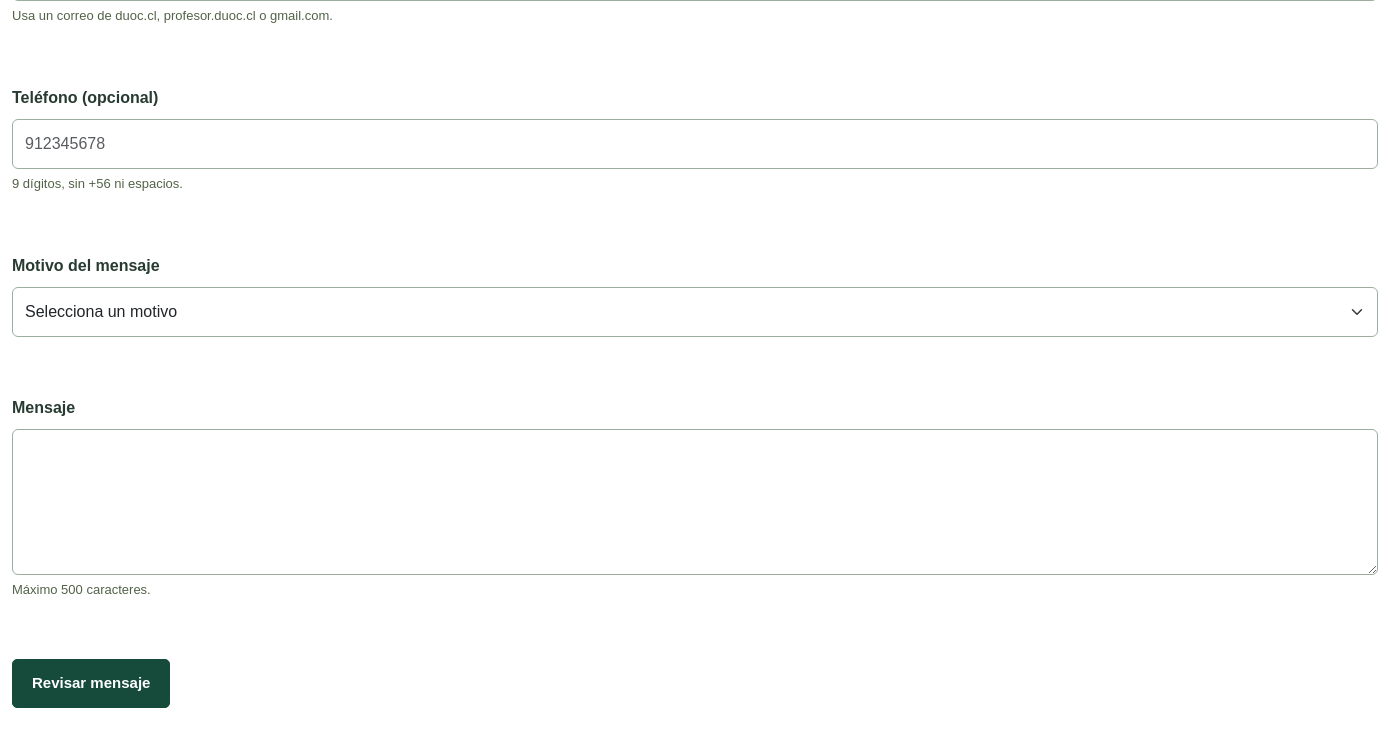
Test: Formulario de contacto › CP-03: impide revisar un mensaje con campos obligatorios vacíos
(page scrolled)
Click the button "Revisar mensaje". click: (91,684)
box: [12,659,170,708]
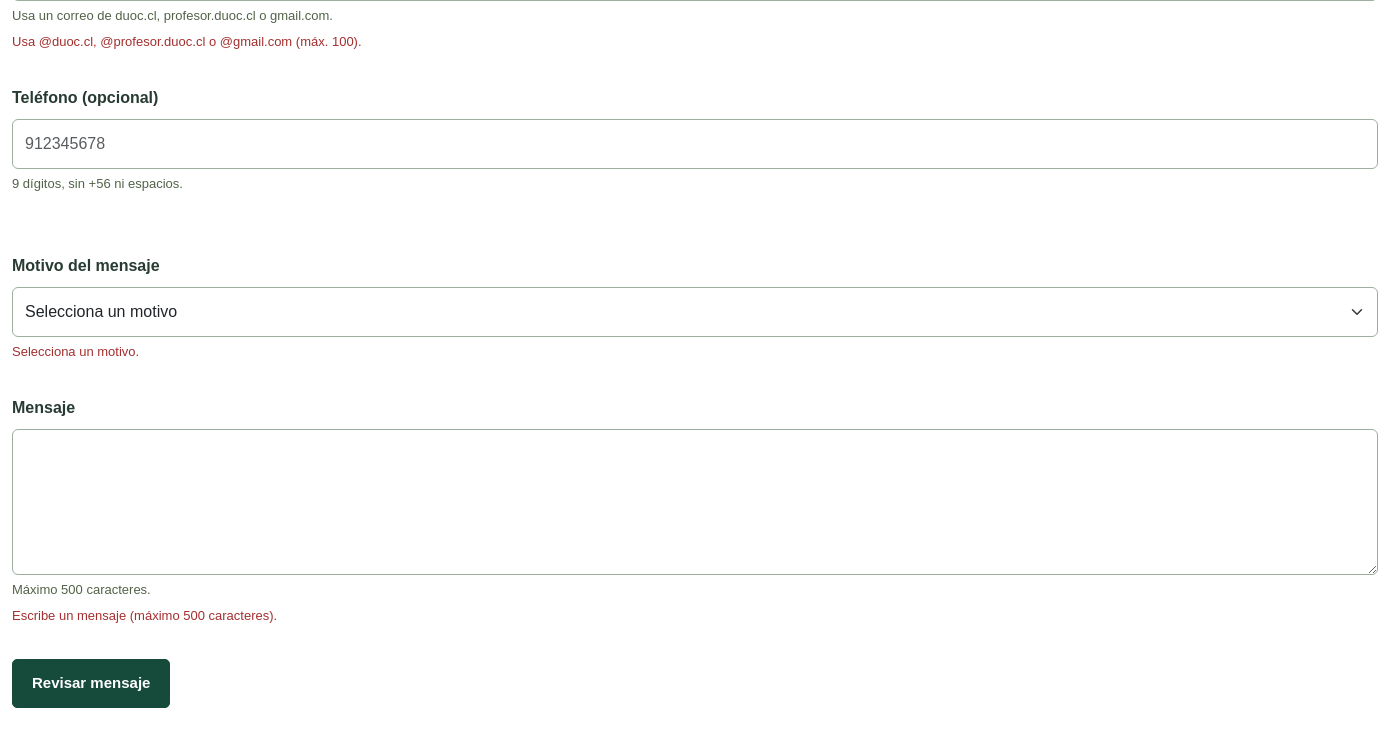
Result: the text "Selecciona un motivo." is shown at [12,344,139,359]
Result: the text "Escribe un mensaje (máximo 500 caracteres)." is shown at [12,608,277,623]
